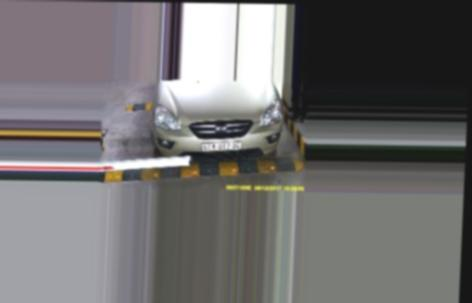License_Plate: (200, 140, 243, 152)
